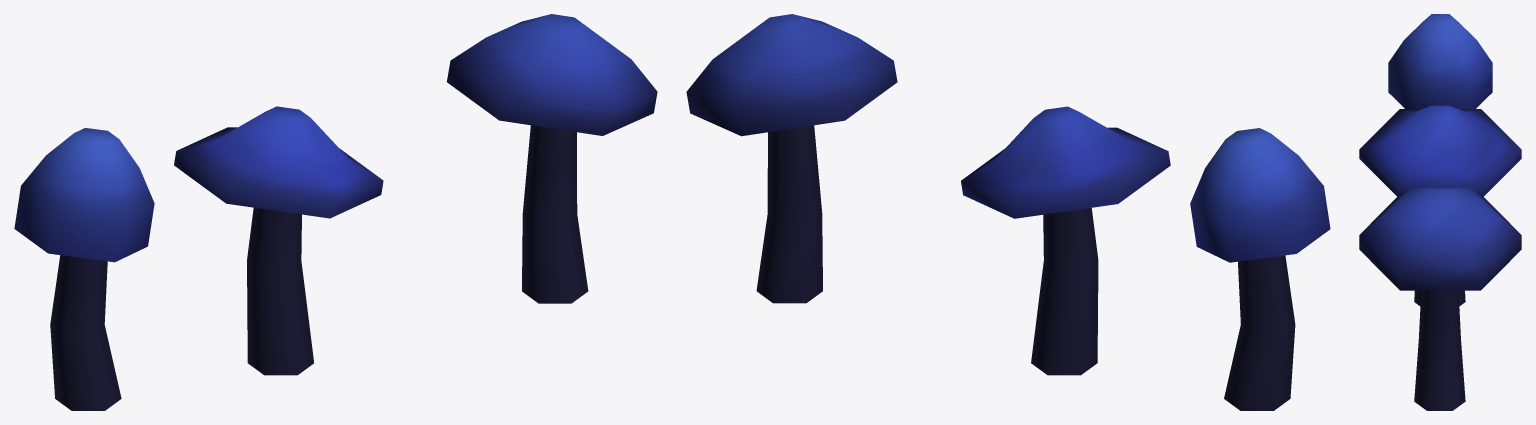
3 views of the same model, side by side, from view 1: azimuth 30°, elevation 25°; view 2: azimuth 150°, elevation 25°; view 3: azimuth 270°, elevation 25° (orthographic). The views are drawn at different scales.
Parts seen in each view (by area): view 1: Prop_Ms_01, Prop_Ms_03, Prop_Ms_02; view 2: Prop_Ms_01, Prop_Ms_03, Prop_Ms_02; view 3: Prop_Ms_01, Prop_Ms_03, Prop_Ms_02.
Part boxes in pixels (x1,y1,x2,y2): Prop_Ms_01: (447,14,657,303); Prop_Ms_03: (174,106,383,375); Prop_Ms_02: (14,128,154,410); Prop_Ms_01: (686,14,897,303); Prop_Ms_03: (961,106,1170,375); Prop_Ms_02: (1190,128,1330,410); Prop_Ms_01: (1359,187,1521,410); Prop_Ms_03: (1359,105,1521,306); Prop_Ms_02: (1388,14,1492,108).
Bounding box in the file's own units: 690 × 302 × 209.
